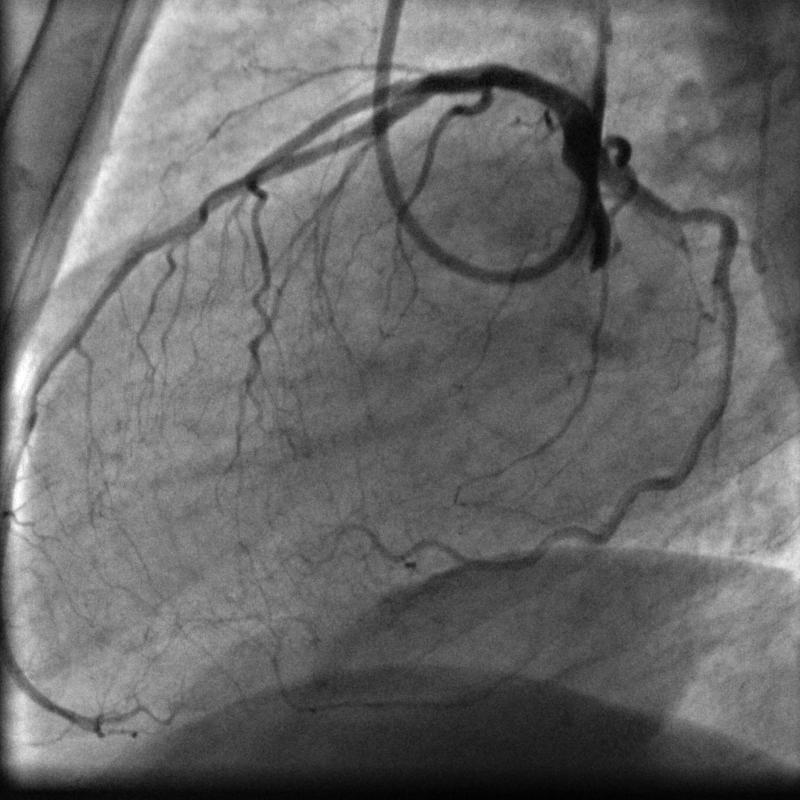Stenosis: (455, 60, 500, 119)
